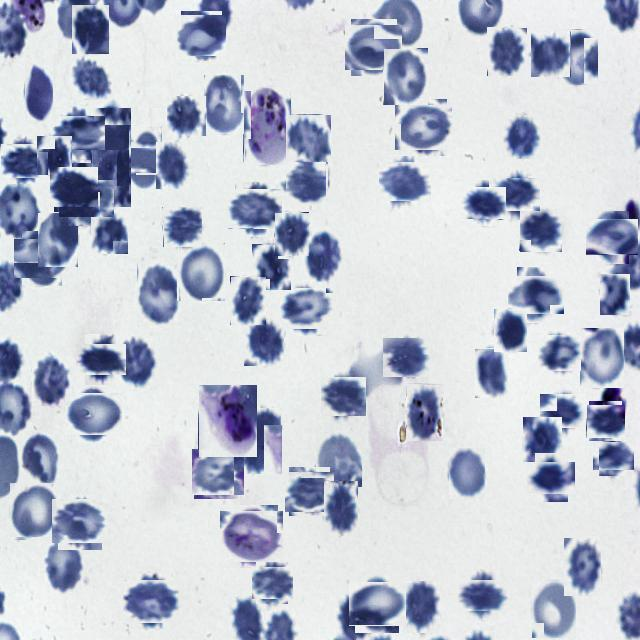red blood cell: (238, 407, 282, 474), (9, 482, 58, 540), (138, 263, 182, 325), (178, 243, 225, 301), (398, 102, 450, 154), (348, 22, 400, 74), (352, 578, 403, 630), (580, 328, 624, 388), (531, 580, 576, 638), (383, 48, 428, 105), (316, 432, 362, 487), (68, 390, 118, 440), (126, 576, 176, 626), (55, 496, 105, 546), (192, 448, 242, 498), (203, 74, 244, 134), (120, 134, 170, 182), (114, 336, 158, 390), (43, 537, 85, 593), (556, 29, 598, 85), (91, 149, 131, 207), (512, 271, 560, 319), (231, 186, 279, 233), (18, 235, 66, 282), (93, 107, 131, 166), (381, 158, 428, 205), (282, 286, 330, 332), (285, 114, 331, 162), (20, 431, 60, 486), (284, 157, 330, 204), (38, 213, 78, 267), (406, 384, 443, 442), (564, 538, 601, 596), (178, 13, 224, 59), (64, 176, 110, 222), (287, 469, 332, 514), (56, 110, 100, 156), (52, 165, 96, 210), (487, 27, 527, 76), (32, 355, 70, 406), (384, 336, 428, 380), (590, 216, 634, 260), (403, 581, 440, 633), (71, 4, 109, 54), (70, 55, 112, 100), (244, 319, 284, 366), (324, 481, 358, 536), (24, 60, 53, 124), (520, 208, 562, 252), (532, 31, 572, 77), (449, 448, 485, 499), (494, 173, 536, 216), (502, 114, 542, 159), (252, 244, 291, 290), (322, 376, 364, 418), (230, 276, 266, 325), (523, 418, 562, 463), (462, 574, 503, 616), (474, 348, 508, 398), (80, 339, 121, 380), (306, 232, 340, 281), (168, 96, 208, 136), (2, 142, 42, 182), (162, 208, 202, 248), (539, 333, 579, 373), (542, 391, 582, 431), (532, 458, 572, 498), (156, 142, 190, 189), (90, 212, 128, 254), (274, 212, 309, 256), (463, 184, 502, 222), (36, 136, 72, 176), (494, 309, 527, 352), (253, 564, 290, 602), (588, 404, 624, 439), (600, 274, 630, 315), (596, 438, 631, 473)
ring: (223, 508, 280, 566)
trophozoite: (198, 384, 257, 457), (244, 87, 292, 165)
